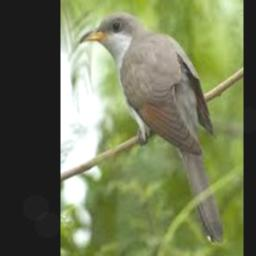Cuckoo: (79, 11, 224, 241)
